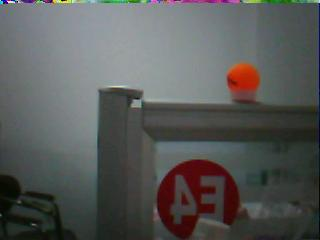oball: (227, 61, 260, 90)
